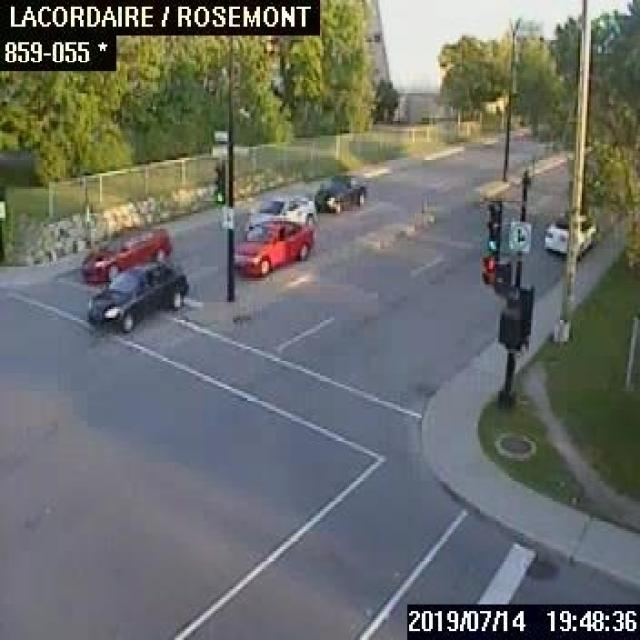vehicle: (86, 262, 187, 331), (81, 225, 171, 279), (232, 218, 313, 274), (243, 194, 315, 234), (542, 213, 596, 254), (314, 173, 365, 210)
